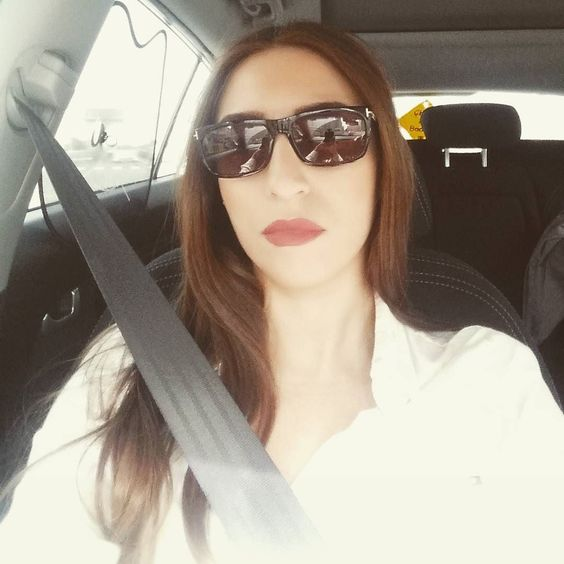sunglasses: (189, 114, 378, 176)
